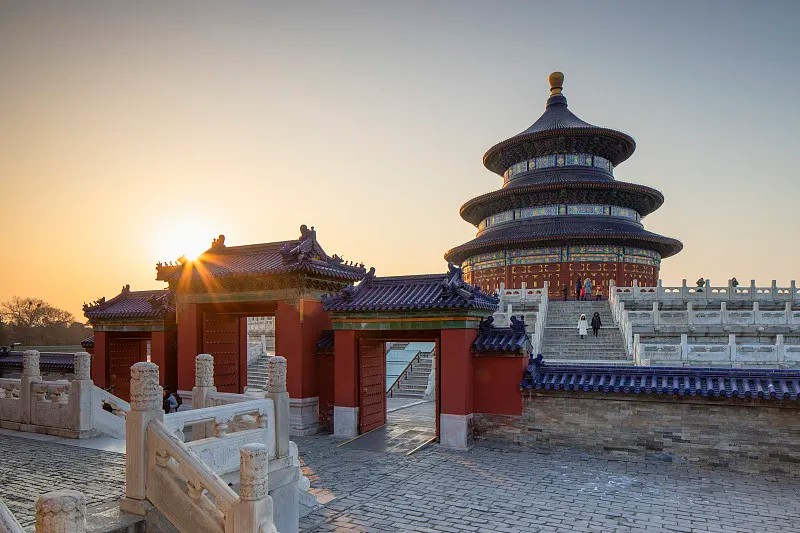Heaven: (444, 71, 685, 299)
